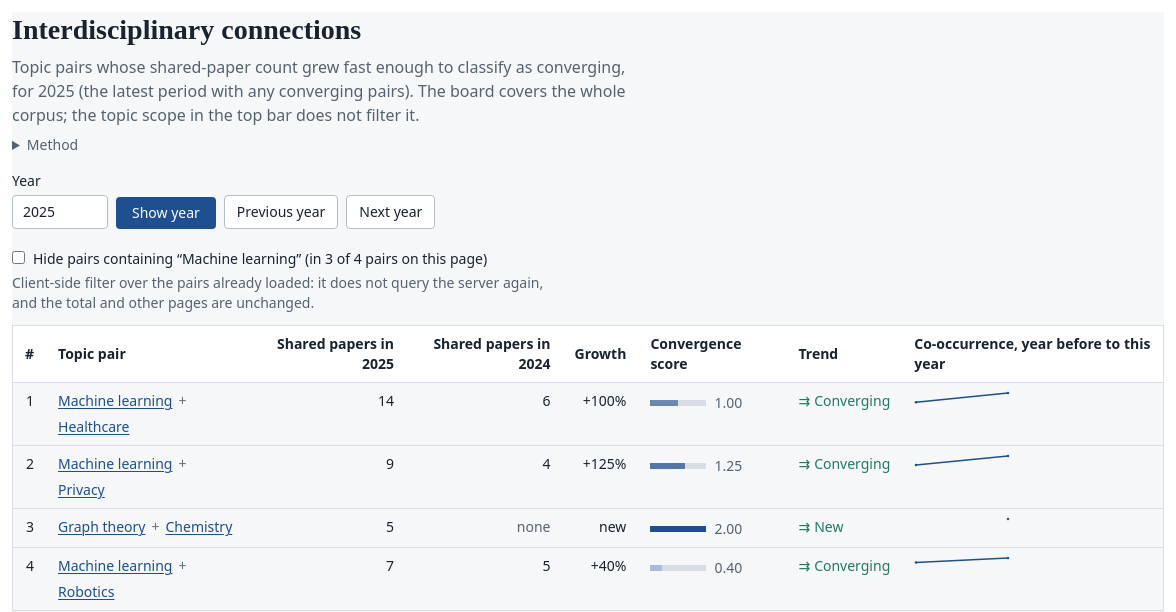
Test: ConnectionsBoard › Phase 6c › restores every pair when the filter is turned off again
The image size is (1176, 612).
Click the checkbox labelled "Hide pairs containing" at [18, 258], box 12,251 -> 25,264
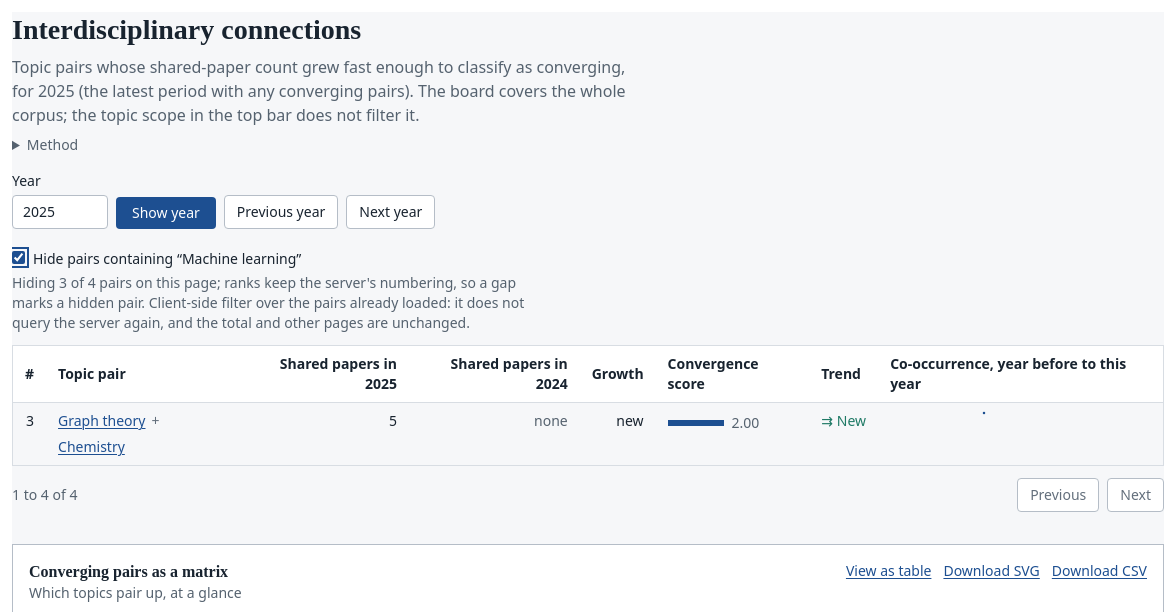
Click the checkbox labelled "Hide pairs containing “Machine learning”" at [18, 258], box 12,251 -> 25,264
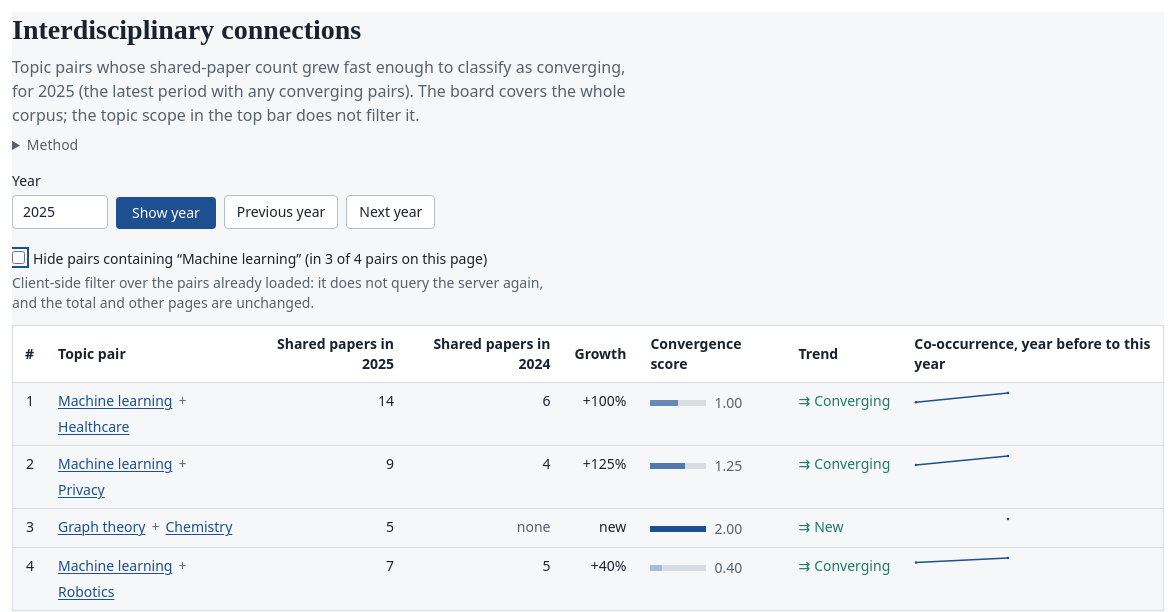
Result: the number of links "Machine learning" is 3 at 58,391 -> 172,411; 58,454 -> 172,474; 58,556 -> 172,576
